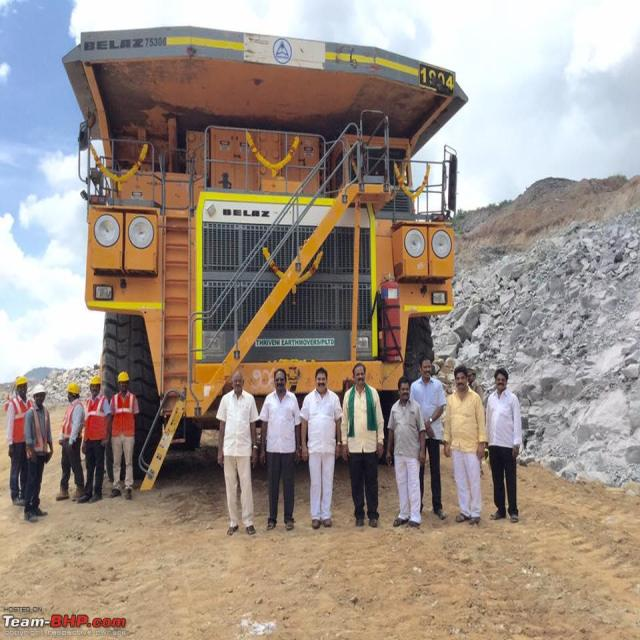truck: (65, 27, 466, 488)
